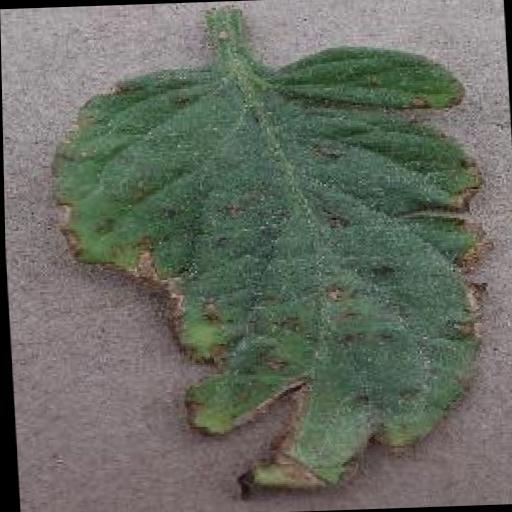Bacterial Spot: (30, 35, 510, 512)
